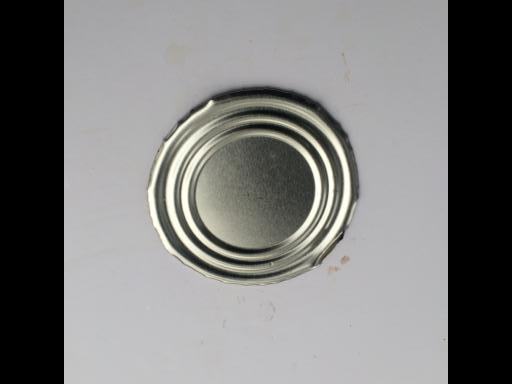metal: (147, 85, 357, 289)
